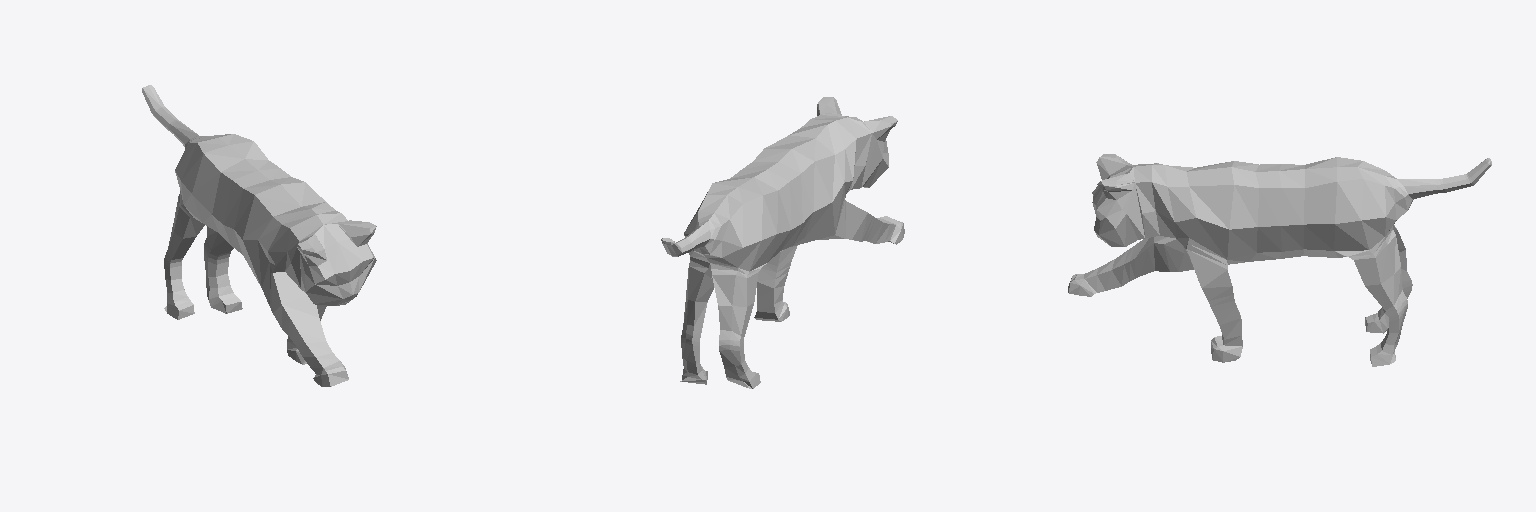
The model's file is cat.obj.
3 renders of one model, left to right at view 1: azimuth 30°, elevation 25°; view 2: azimuth 150°, elevation 25°; view 3: azimuth 270°, elevation 25°, orthographic.
Parts seen in each view (by area): view 1: cat; view 2: cat; view 3: cat.
Part boxes in pixels (bbox=[...]): cat: bbox=[142, 85, 376, 386]; cat: bbox=[661, 97, 904, 388]; cat: bbox=[1068, 154, 1491, 366].
Size of the model in its own units: 0.4258 by 0.9264 by 1.87.